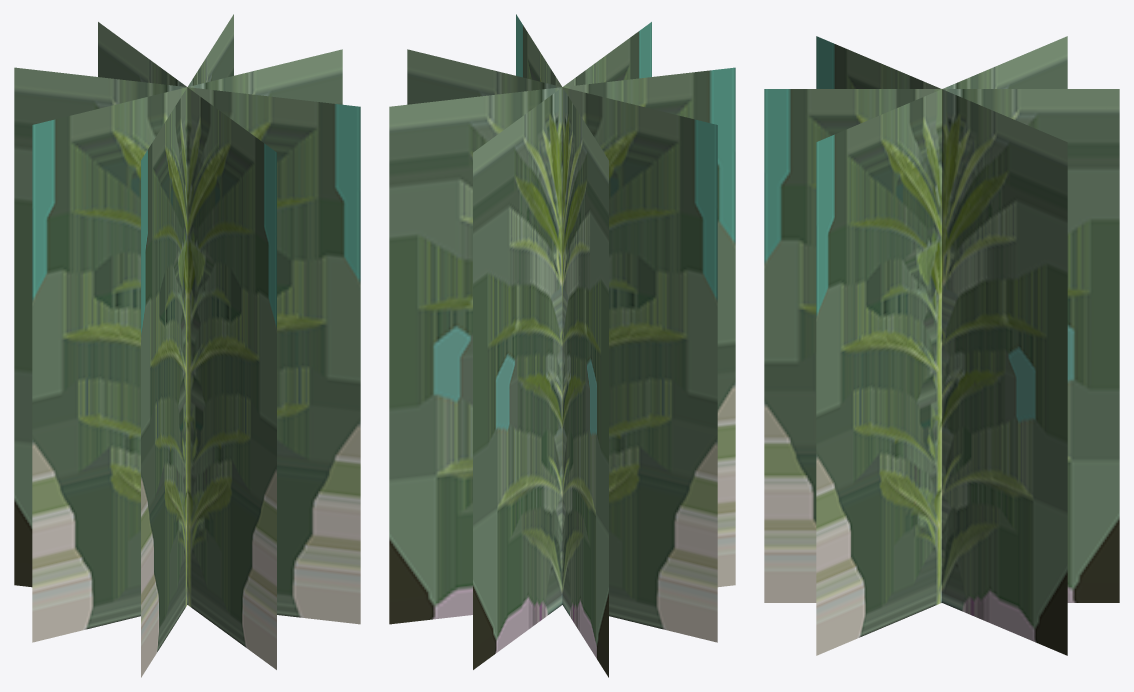
File: 3d-tanam3.glb
3 views of the same model, side by side, from view 1: azimuth 30°, elevation 25°; view 2: azimuth 150°, elevation 25°; view 3: azimuth 270°, elevation 25° (orthographic).
Visible parts, largest first — view 1: Material_001-material.002; view 2: Material_001-material.002; view 3: Material_001-material.002.
Part boxes in pixels (x1,y1,x2,y2): Material_001-material.002: (14, 14, 360, 677); Material_001-material.002: (389, 14, 735, 677); Material_001-material.002: (764, 36, 1119, 655).
Bounding box in the file's own units: 2.2 × 3.5 × 2.2.
1 material, 1 textured.
